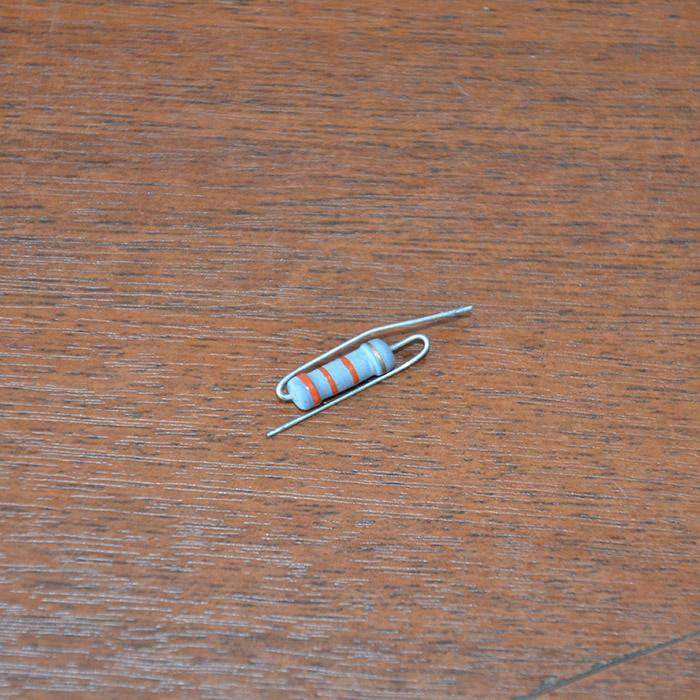resistor: (285, 336, 395, 410)
